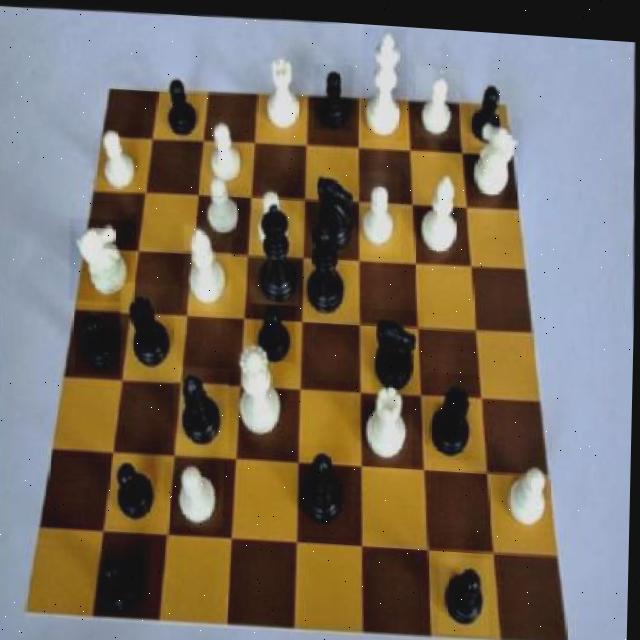bishop: (174, 362, 233, 452), (299, 439, 353, 525)
black-bishop: (249, 193, 303, 302)
black-king: (307, 164, 361, 253), (372, 303, 427, 390)
black-knight: (98, 540, 154, 617), (441, 548, 494, 629), (111, 457, 169, 527), (75, 304, 126, 376), (468, 64, 511, 142), (161, 64, 205, 139), (252, 291, 298, 360), (314, 60, 355, 128)
black-pawn: (301, 209, 353, 320)
black-queen: (121, 281, 180, 378), (426, 364, 483, 454)
black-rook: (416, 161, 465, 263), (184, 220, 235, 310)
white-bishop: (361, 21, 409, 136)
white-king: (70, 215, 138, 301), (467, 108, 524, 195)
white-knight: (502, 448, 557, 532), (92, 117, 145, 195), (174, 454, 226, 526), (359, 165, 403, 250), (415, 62, 461, 135), (205, 112, 250, 182), (253, 180, 295, 246), (204, 172, 245, 233)
white-pawn: (228, 334, 289, 440)
white-queen: (363, 367, 417, 467), (261, 44, 305, 131)
